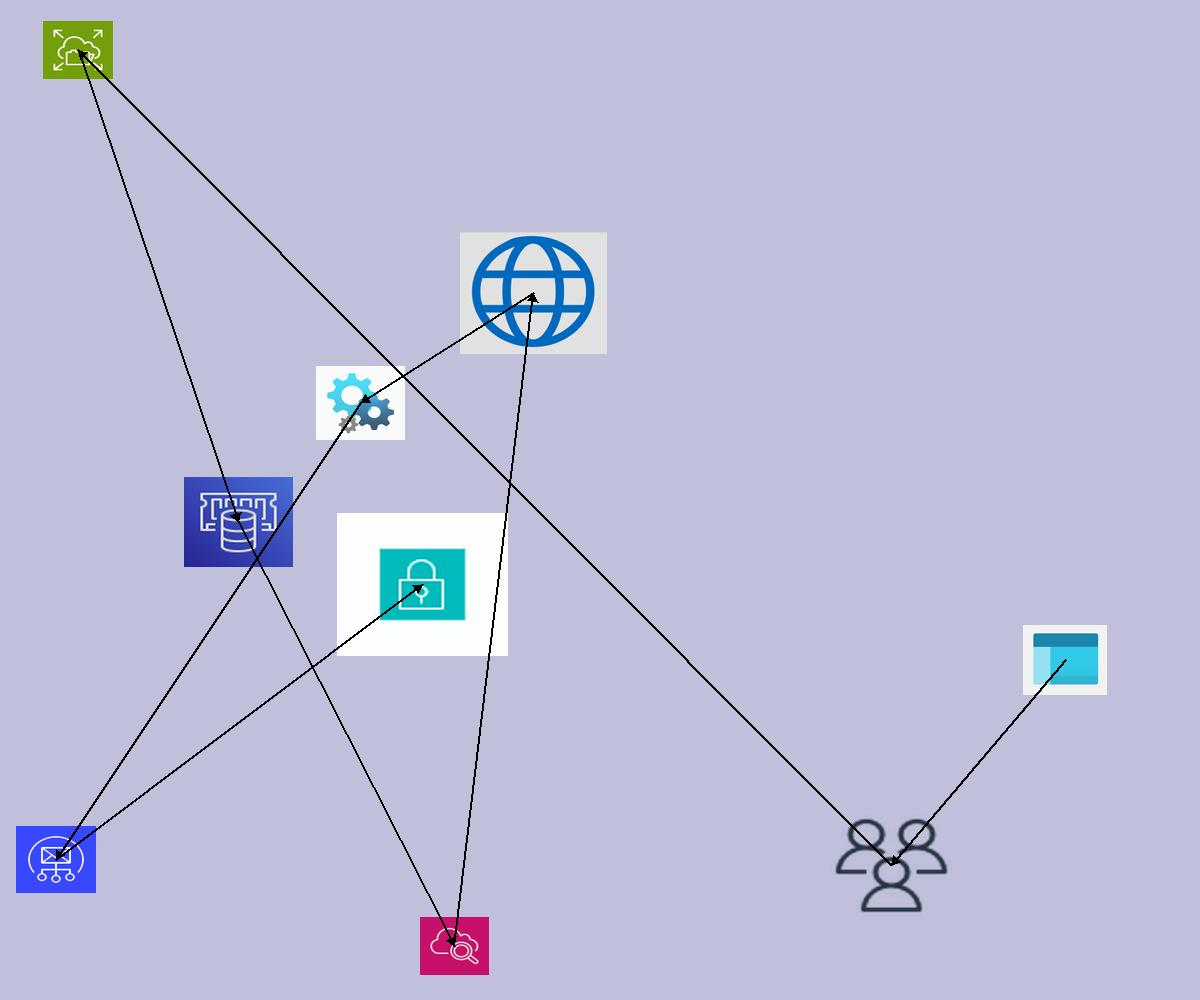AWS-CloudWatch: (420, 917, 489, 975)
AWS-EFS: (43, 21, 113, 79)
AWS-ElastiCache: (184, 477, 293, 567)
AWS-Private-subnet: (337, 513, 508, 656)
AWS-Res_Users: (831, 815, 952, 916)
AWS-Simple-Email-Service: (16, 826, 96, 893)
Azure_api: (316, 366, 405, 440)
Azure_http: (460, 232, 607, 354)
Azure_management-portal: (1023, 625, 1107, 695)
